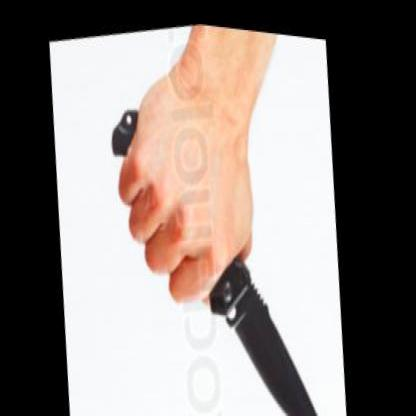knife: (150, 129, 349, 412)
